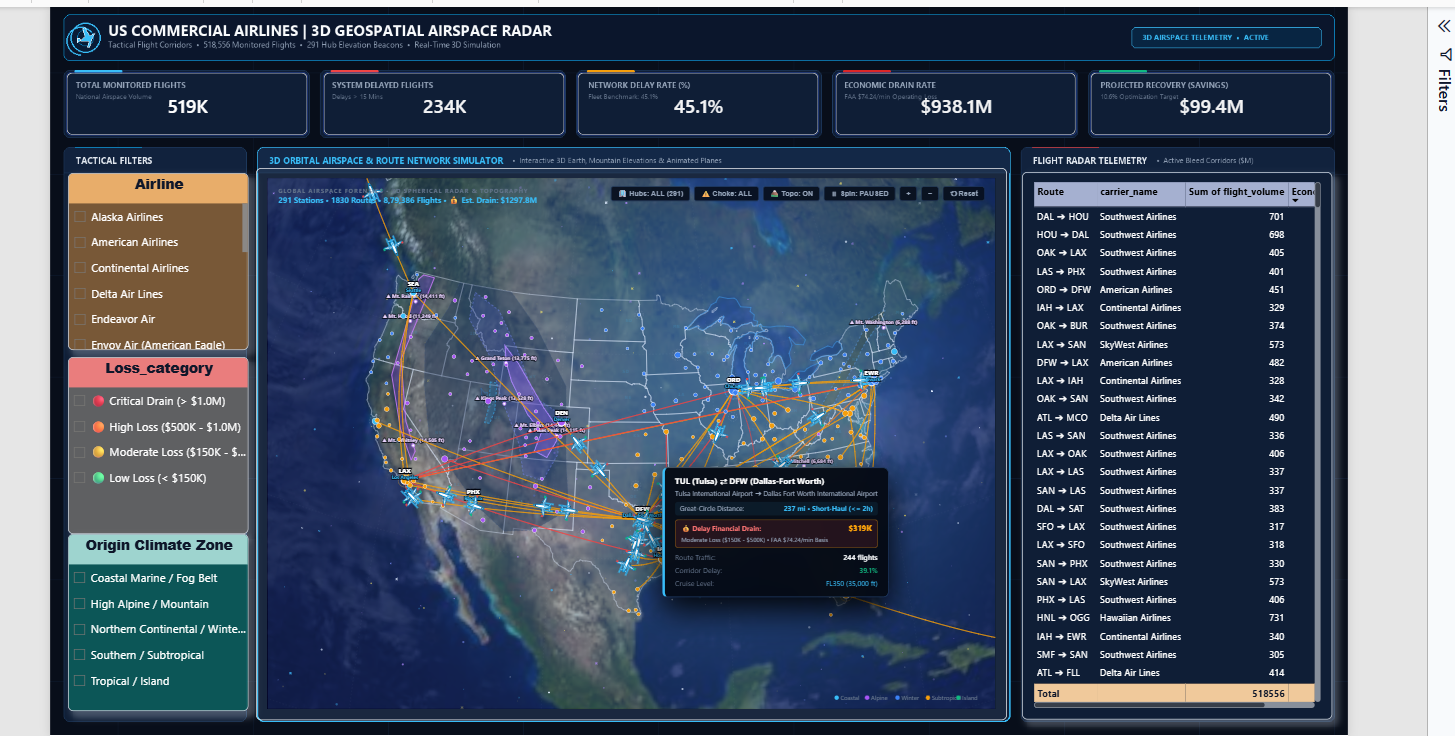

This screenshot's page, from the dashboard's own definition file:
{"tool":"powerbi","page":{"name":"Page 2","canvas":[1920,1080],"ordinal":1},"visuals":[{"type":"usAviationFlightMapB43F516D783B4A84A0828C961758EE5D","fields":{"origin":["powerbi_route_carrier_matrix.AirportFrom"],"destination":["powerbi_route_carrier_matrix.AirportTo"],"volume":["Sum(powerbi_route_carrier_matrix.flight_volume)"],"delayRate":["powerbi_route_carrier_matrix.Delay Rate %"],"carrier":["powerbi_route_carrier_matrix.carrier_name"],"airport":["powerbi_route_carrier_matrix.AirportFrom"]},"box":[304.8,238.2,1111.1,816.7],"z":0},{"type":"cardVisual","fields":{"Data":["powerbi_route_carrier_matrix.Total Flights"]},"box":[23.1,95.7,358,94],"z":1000},{"type":"cardVisual","fields":{"Data":["powerbi_route_carrier_matrix.Delayed Flights"]},"box":[404.1,95.7,358,94],"z":2000},{"type":"cardVisual","fields":{"Data":["powerbi_route_carrier_matrix.Delay Rate %"]},"box":[780.2,95.7,358,94],"z":3000},{"type":"cardVisual","fields":{"Data":["powerbi_route_carrier_matrix.Loss ($M)"]},"box":[1161.2,95.7,357.9,94],"z":4000},{"type":"cardVisual","fields":{"Data":["powerbi_route_carrier_matrix.Projected Savings ($M)"]},"box":[1539,95.7,358,94],"z":5000},{"type":"slicer","title":"Airline ","fields":{"Values":["powerbi_route_carrier_matrix.carrier_name"]},"box":[26.4,245.8,267.2,262.3],"z":5001},{"type":"slicer","title":"Loss_category","fields":{"Values":["powerbi_route_carrier_matrix.Financial Loss Tier"]},"box":[26.4,517.9,267.2,262.3],"z":5002},{"type":"slicer","title":"Origin Climate Zone","fields":{"Values":["powerbi_route_carrier_matrix.from_climate_tier"]},"box":[26.4,780.2,267.2,262.3],"z":5003},{"type":"tableEx","fields":{"Values":["powerbi_route_carrier_matrix.Route","powerbi_route_carrier_matrix.carrier_name","Sum(powerbi_route_carrier_matrix.flight_volume)","powerbi_route_carrier_matrix.Economic Loss ($)"]},"box":[1438.4,244.1,458.6,809.9],"z":5004}]}

Visuals, with their boxes on the page's 1920x1080 design canvas (x1, y1, x2, y2). These are canvas units, not pixel positions in the 1455x736 screenshot, which may show the page scaled, cropped or inside an application window:
usAviationFlightMapB43F516D783B4A84A0828C961758EE5D - powerbi_route_carrier_matrix.AirportFrom x powerbi_route_carrier_matrix.AirportTo: {"x1": 305, "y1": 238, "x2": 1416, "y2": 1055}
cardVisual - powerbi_route_carrier_matrix.Total Flights: {"x1": 23, "y1": 96, "x2": 381, "y2": 190}
cardVisual - powerbi_route_carrier_matrix.Delayed Flights: {"x1": 404, "y1": 96, "x2": 762, "y2": 190}
cardVisual - powerbi_route_carrier_matrix.Delay Rate %: {"x1": 780, "y1": 96, "x2": 1138, "y2": 190}
cardVisual - powerbi_route_carrier_matrix.Loss ($M): {"x1": 1161, "y1": 96, "x2": 1519, "y2": 190}
cardVisual - powerbi_route_carrier_matrix.Projected Savings ($M): {"x1": 1539, "y1": 96, "x2": 1897, "y2": 190}
"Airline " slicer: {"x1": 26, "y1": 246, "x2": 294, "y2": 508}
"Loss_category" slicer: {"x1": 26, "y1": 518, "x2": 294, "y2": 780}
"Origin Climate Zone" slicer: {"x1": 26, "y1": 780, "x2": 294, "y2": 1042}
tableEx - powerbi_route_carrier_matrix.Route x powerbi_route_carrier_matrix.carrier_name: {"x1": 1438, "y1": 244, "x2": 1897, "y2": 1054}
